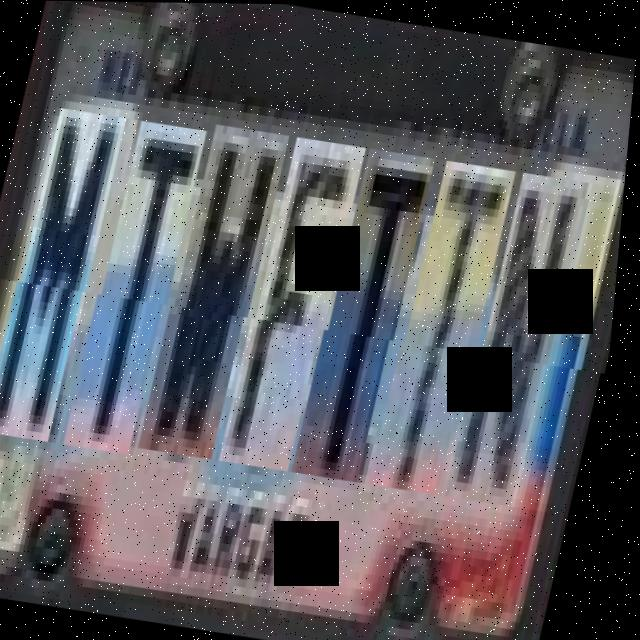F: (230, 136, 370, 472)
M: (0, 107, 129, 443)
N: (457, 171, 592, 506)
T: (381, 158, 519, 495), (303, 147, 439, 482), (75, 120, 209, 455)
W: (149, 123, 293, 460)
